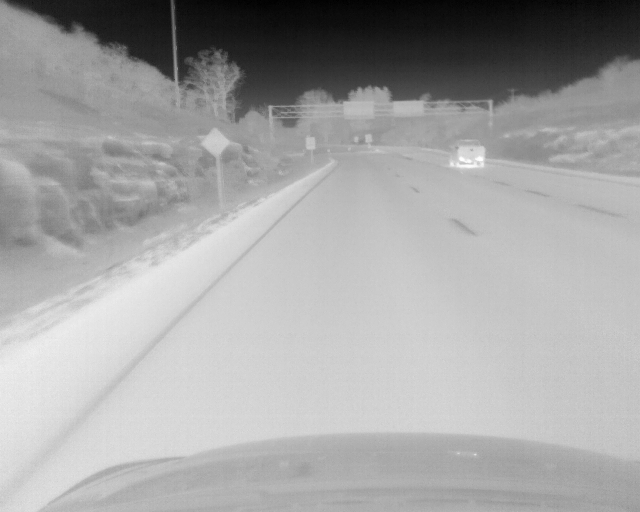car: (446, 140, 486, 168)
